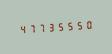five: (57, 19, 66, 33), (67, 19, 76, 32), (77, 18, 86, 31)
four: (17, 22, 26, 36)
seven: (27, 22, 36, 35), (37, 21, 46, 34)
three: (47, 20, 56, 33)
zero: (87, 17, 96, 31)
